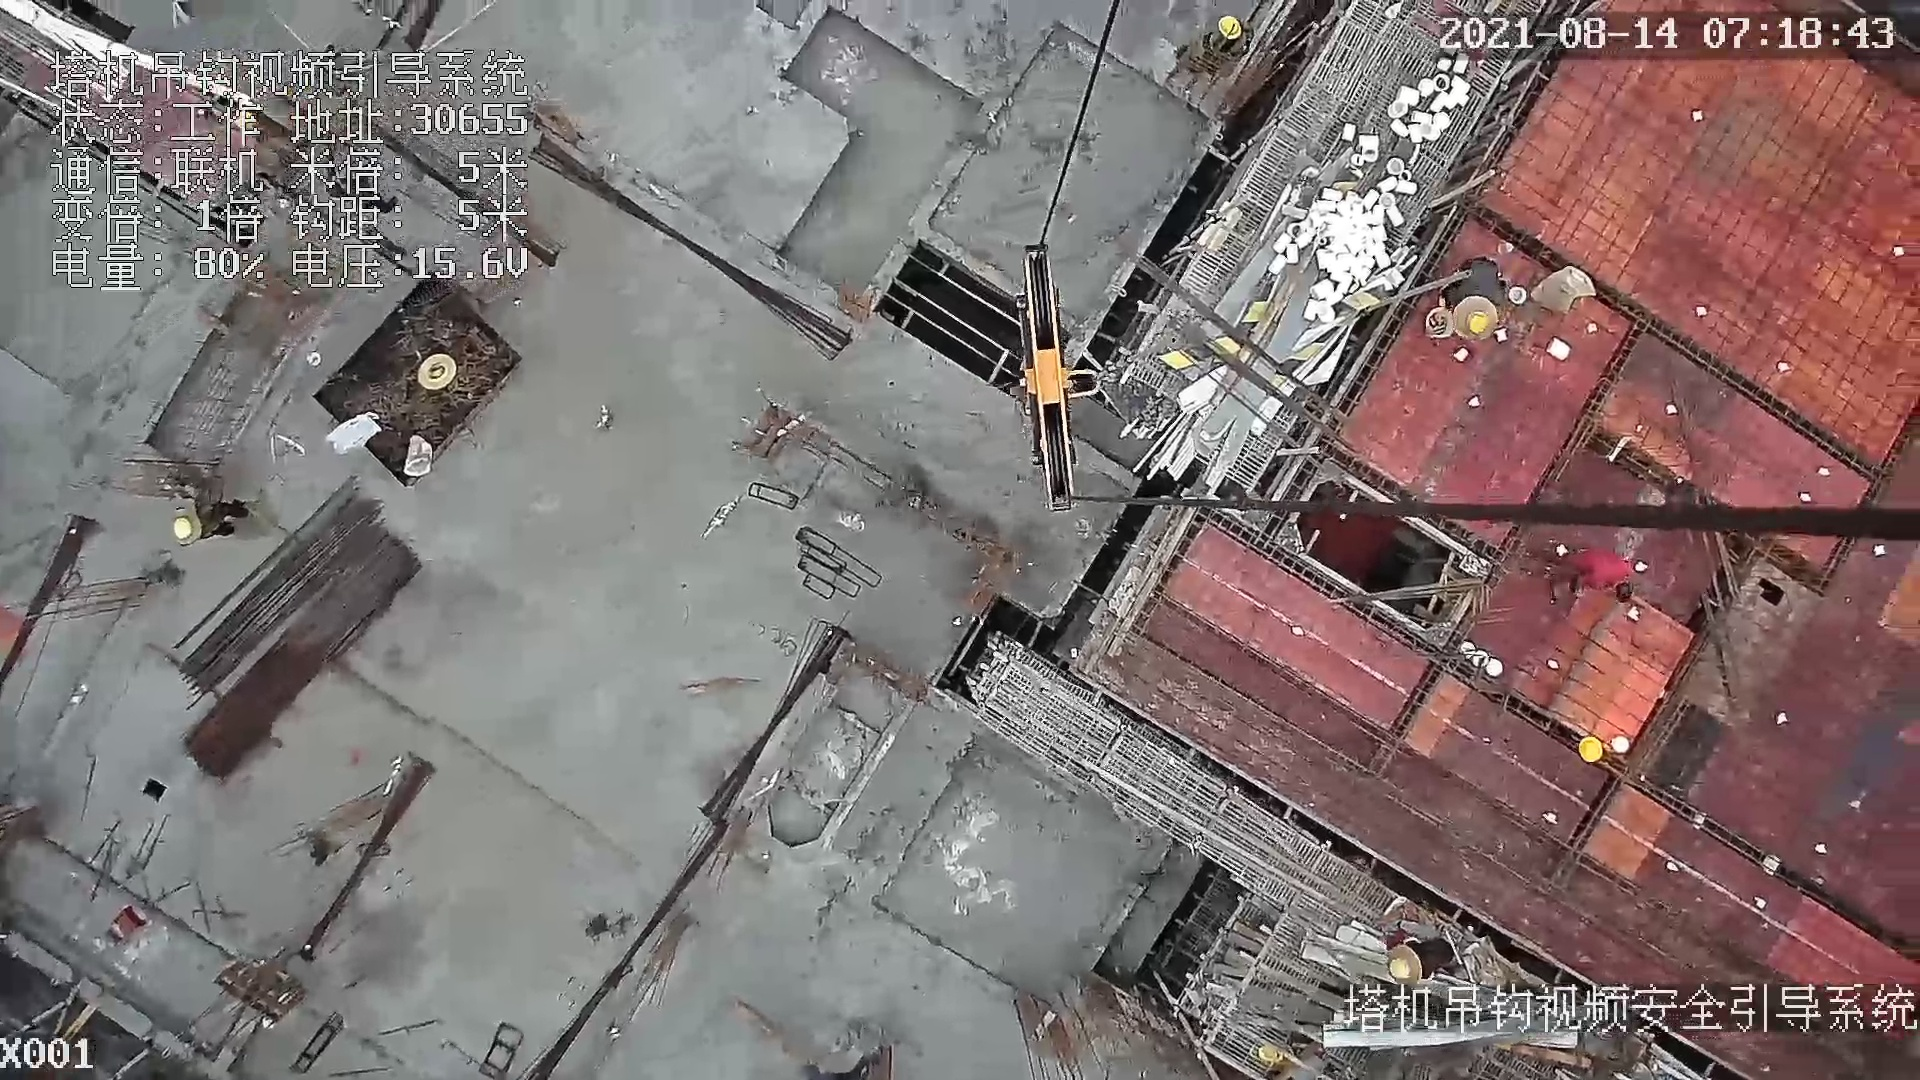helmet: (1219, 13, 1254, 49), (1571, 731, 1607, 764), (1462, 305, 1485, 342), (167, 515, 196, 539)
hook: (1006, 244, 1106, 524)
person: (151, 480, 254, 541), (1544, 549, 1632, 608), (1458, 260, 1515, 336)
